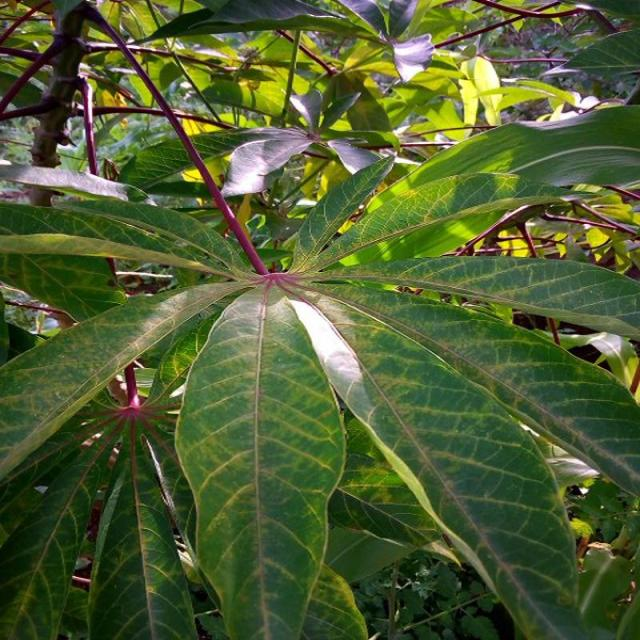cassava leaf: (1, 1, 638, 638), (173, 280, 348, 638)
